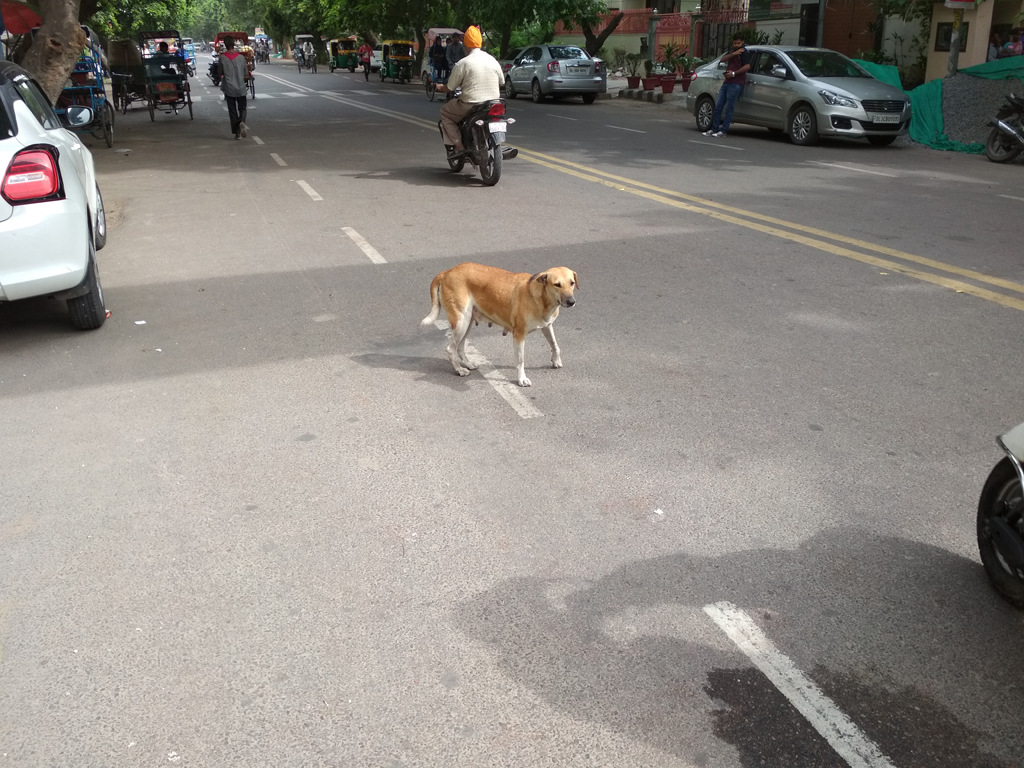dog: (419, 262, 577, 388)
